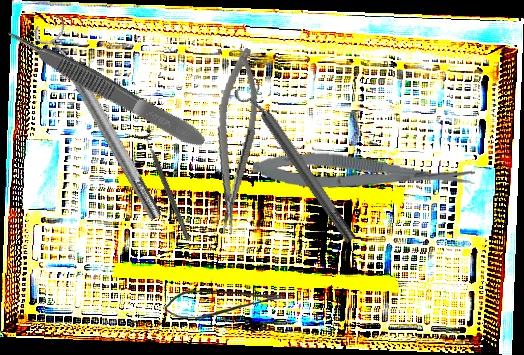Fixation Ring: (30, 12, 171, 228), (231, 75, 364, 250), (133, 127, 198, 245)
Micro Scissor: (251, 147, 477, 200), (163, 287, 285, 323)
Needle Holder: (202, 45, 267, 237)
Tissue Forceps: (3, 21, 209, 154)
